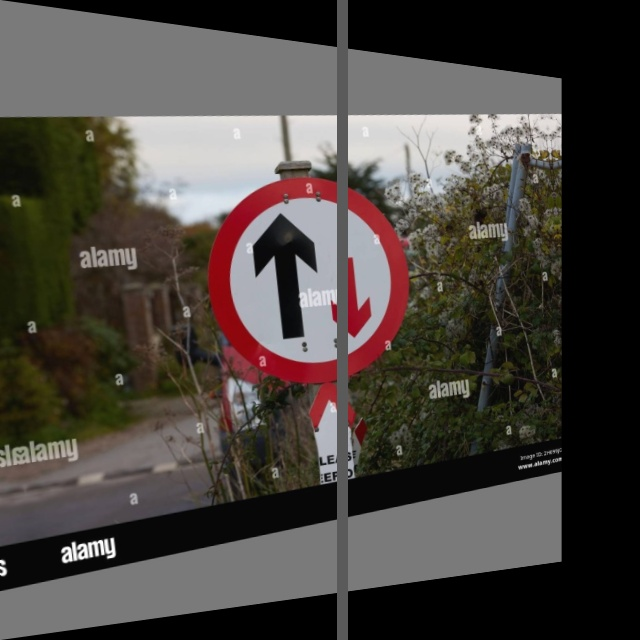Priority_for_Oncoming_Traffic: (196, 157, 418, 397)
